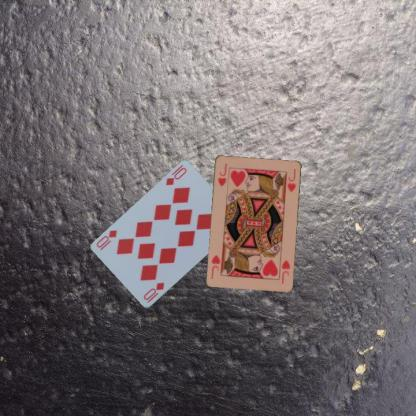10d: (141, 280, 166, 305), (163, 165, 188, 187)
Jh: (276, 255, 291, 285), (215, 161, 228, 187)
